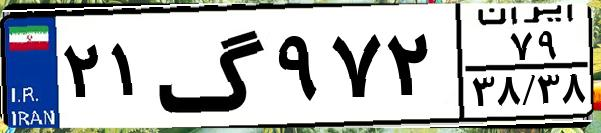1: (110, 28, 156, 98)
2: (385, 28, 445, 110), (57, 26, 110, 100)
3: (470, 70, 495, 125), (535, 70, 560, 125)
7: (330, 28, 385, 110), (508, 27, 537, 80)
8: (560, 70, 590, 125), (495, 70, 520, 125)
9: (270, 28, 330, 110), (537, 27, 568, 80)
گ: (156, 12, 270, 120)
